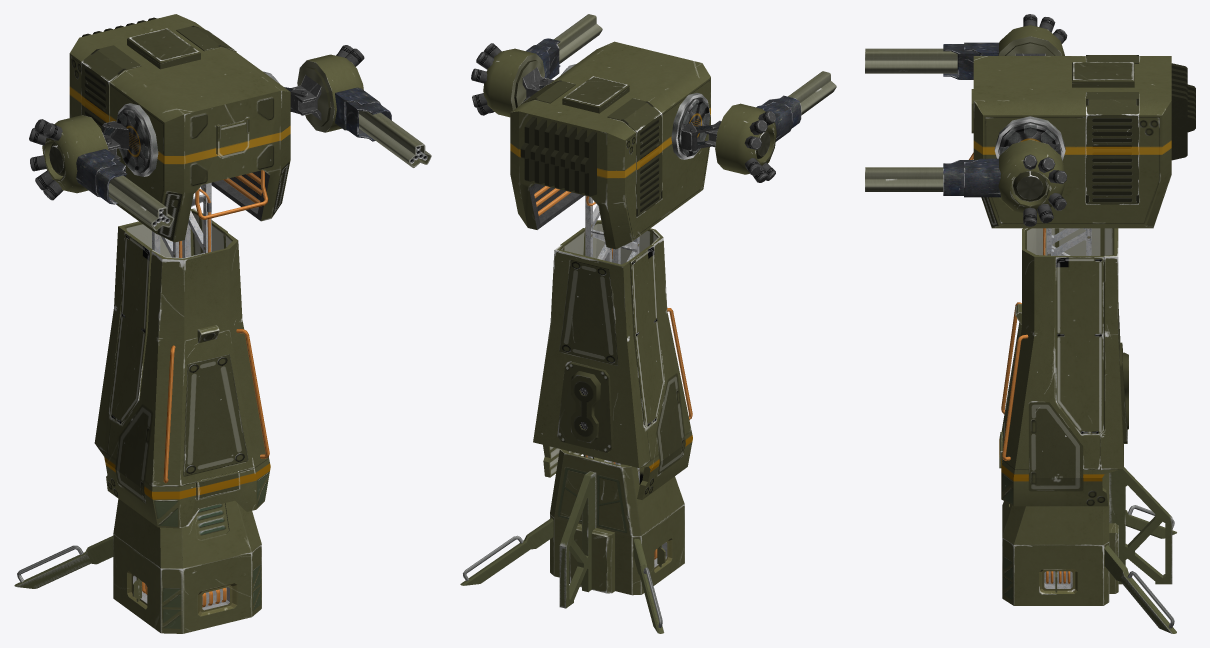
Rendered from turret_tower_07.fbx.
3 views of the same model, side by side, from view 1: azimuth 30°, elevation 25°; view 2: azimuth 150°, elevation 25°; view 3: azimuth 270°, elevation 25° (orthographic). The views are drawn at different scales.
Visible parts, largest first — view 1: body (×3), head, tower_base, tower_body_door_right, barrel (×2), tower_head_door_right, decor3, tower_leg, body_frame, holder, tower_head_door_center, decor (+3 smaller); view 2: body (×3), head, tower_base, decor3, tower_leg, tower_body_door_right, tower_body_door_rear, tower_head_door_right, barrel (×2), body_frame, holder, decor (+2 smaller); view 3: body (×3), head, tower_base, tower_body_door_left, tower_head_door_left, tower_leg, barrel (×2), decor3, holder, body_frame, tower_body_door_right, tower_body_door_rear (+1 smaller).
Boxes of the visible parts, box(x1,y1,x2,y2) form: body (×3): box(29, 45, 391, 528); head: box(69, 14, 290, 242); tower_base: box(113, 499, 261, 633); tower_body_door_right: box(109, 231, 152, 425); barrel (×2): box(108, 110, 431, 230); tower_head_door_right: box(81, 45, 141, 131); decor3: box(82, 17, 200, 69); tower_leg: box(14, 536, 113, 588); body_frame: box(152, 182, 211, 258); holder: box(117, 108, 151, 173); tower_head_door_center: box(216, 117, 249, 158); decor: box(195, 170, 268, 219); body (×3): box(471, 38, 801, 499); head: box(510, 41, 710, 249); tower_base: box(550, 449, 684, 595); decor3: box(520, 76, 629, 196); tower_leg: box(460, 471, 664, 633); tower_body_door_right: box(629, 244, 664, 427); tower_body_door_rear: box(557, 362, 613, 452); tower_head_door_right: box(607, 98, 662, 217); barrel (×2): box(554, 14, 836, 115); body_frame: box(585, 195, 639, 482); holder: box(677, 97, 710, 156); decor: box(681, 122, 720, 151); body (×3): box(943, 14, 1123, 506); head: box(973, 56, 1171, 228); tower_base: box(1002, 473, 1118, 605); tower_body_door_left: box(1055, 256, 1103, 434); tower_head_door_left: box(1086, 92, 1138, 204); tower_leg: box(1104, 467, 1176, 633); barrel (×2): box(865, 48, 957, 191); decor3: box(1072, 62, 1195, 160); holder: box(998, 122, 1062, 155); body_frame: box(1043, 228, 1091, 255); tower_body_door_right: box(1055, 228, 1103, 255); tower_body_door_rear: box(1119, 342, 1128, 443).
Bounding box in the file's own units: 9.83 × 15.97 × 9.37.
